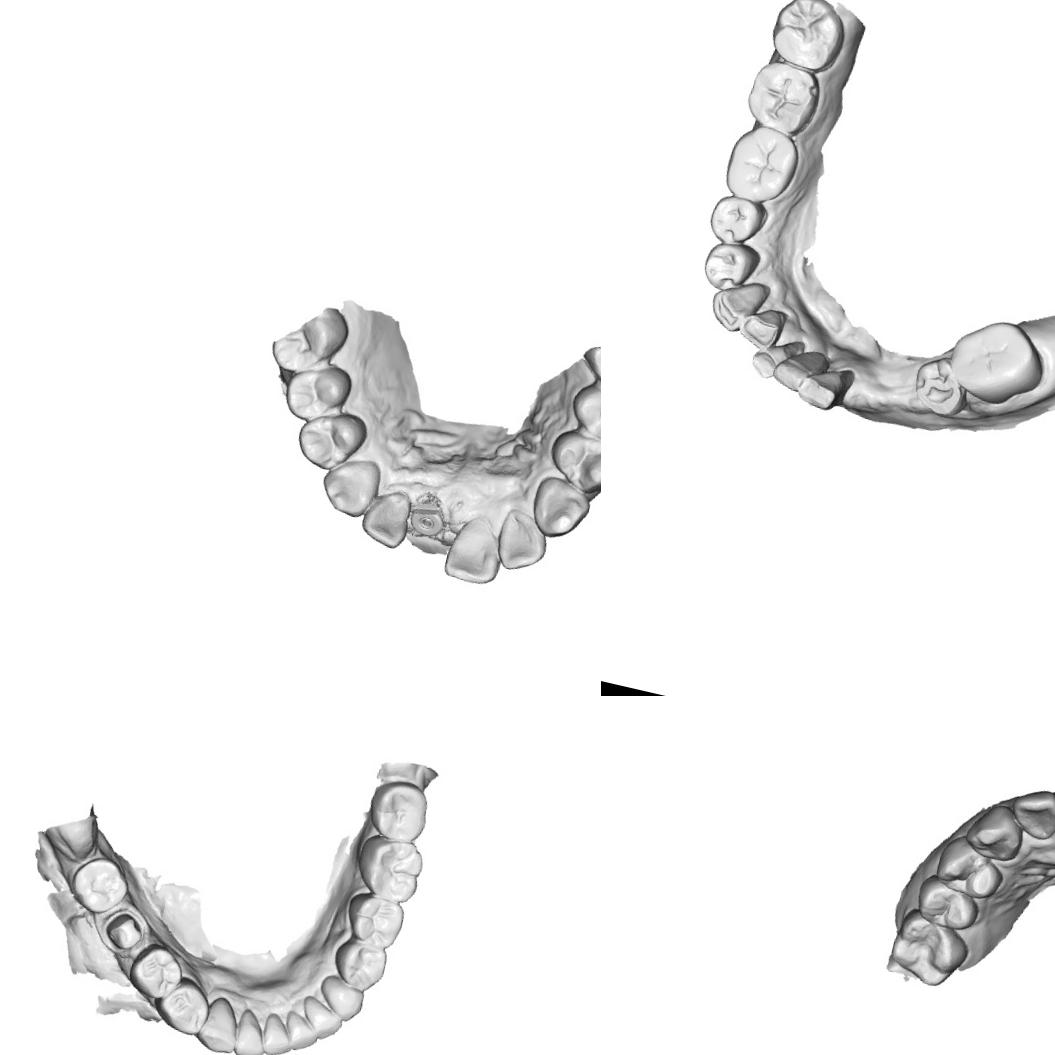abutment: (101, 906, 148, 954)
canine: (314, 450, 384, 524), (525, 472, 594, 544), (704, 272, 773, 341), (960, 798, 1030, 865), (192, 992, 245, 1055), (313, 971, 368, 1026)
implant: (409, 498, 450, 540)
incisor: (439, 511, 508, 589), (490, 506, 553, 579), (355, 482, 416, 554), (766, 336, 830, 402), (791, 356, 858, 418), (1004, 782, 1055, 845), (746, 333, 799, 386), (738, 304, 786, 352), (278, 1007, 324, 1055), (230, 1006, 273, 1055), (257, 1009, 299, 1055), (305, 1002, 346, 1044)
molar: (940, 308, 1054, 416), (880, 907, 973, 992), (742, 56, 825, 134), (765, 0, 849, 77), (350, 832, 428, 906), (724, 128, 798, 202), (363, 774, 434, 846), (64, 850, 134, 920)
premolar: (291, 402, 371, 478), (278, 354, 355, 429), (932, 832, 1010, 903), (908, 870, 988, 936), (906, 351, 975, 424), (148, 970, 216, 1039), (542, 427, 601, 500), (124, 938, 189, 1004), (340, 890, 408, 951), (696, 239, 760, 299), (704, 190, 767, 250), (328, 936, 390, 994), (564, 381, 601, 447)
